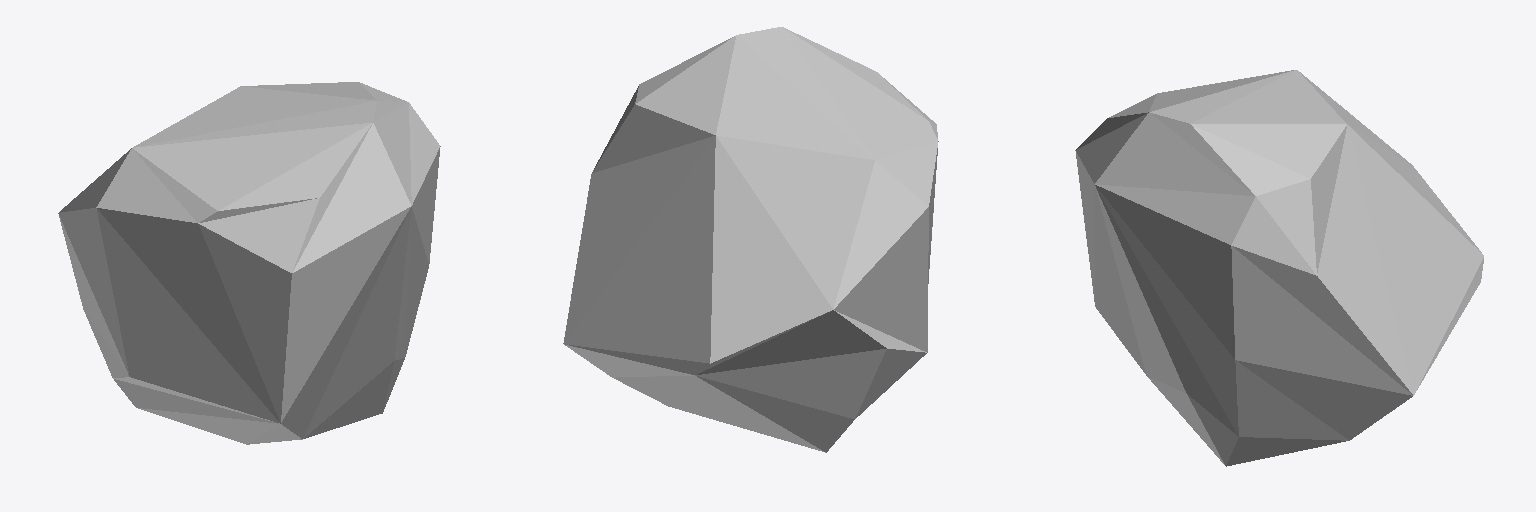
The model's file is Rock_8.obj.
3 renders of one model, left to right at view 1: azimuth 30°, elevation 25°; view 2: azimuth 150°, elevation 25°; view 3: azimuth 270°, elevation 25°, orthographic.
Parts seen in each view (by area): view 1: Sphere.018_Sphere.023; view 2: Sphere.018_Sphere.023; view 3: Sphere.018_Sphere.023.
Part boxes in pixels (bbox=[...]): Sphere.018_Sphere.023: bbox=[58, 82, 440, 444]; Sphere.018_Sphere.023: bbox=[563, 27, 938, 452]; Sphere.018_Sphere.023: bbox=[1075, 70, 1483, 466].
Size of the model in its own units: 1.56 by 1.57 by 1.72.